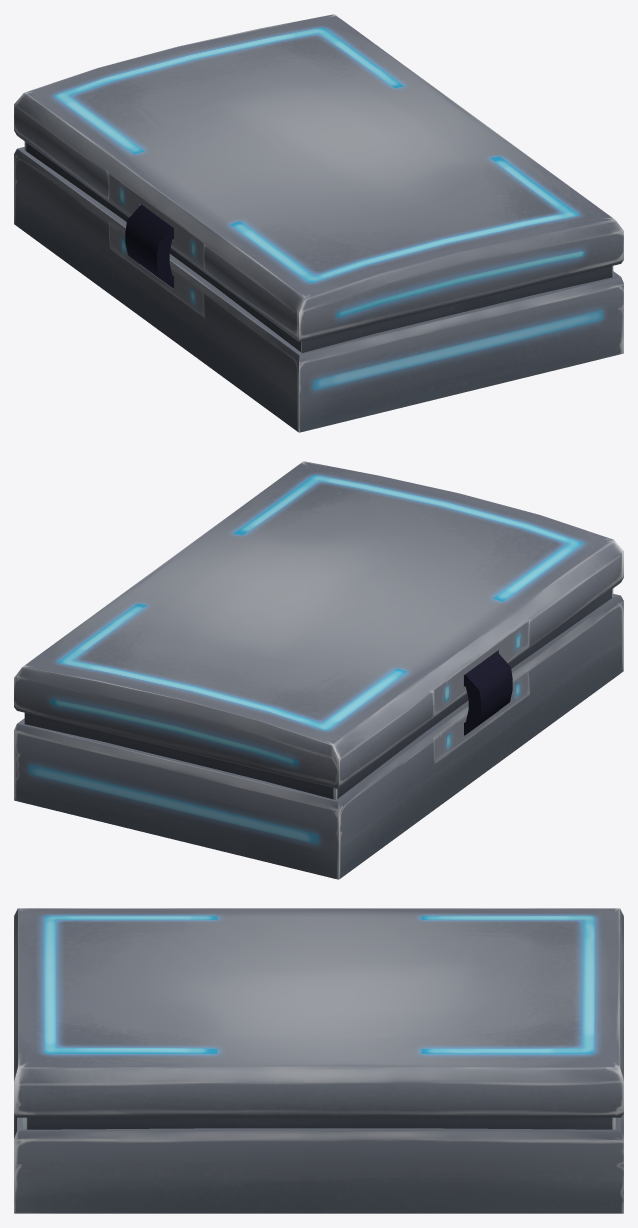
Rendered from loot chests.FBX.
3 renders of one model, top to bottom at view 1: azimuth 30°, elevation 25°; view 2: azimuth 150°, elevation 25°; view 3: azimuth 270°, elevation 25°, orthographic. The views are drawn at different scales.
Parts seen in each view (by area): view 1: chest, handle; view 2: chest, handle; view 3: chest.
Boxes of the visible parts, x1,y1,x2,y2 form: chest: (14,14,623,432); handle: (125,204,173,288); chest: (14,461,623,879); handle: (464,651,512,735); chest: (14,908,623,1213).
Bounding box in the file's own units: 126 × 49.19 × 182.
2 materials, 1 textured.
